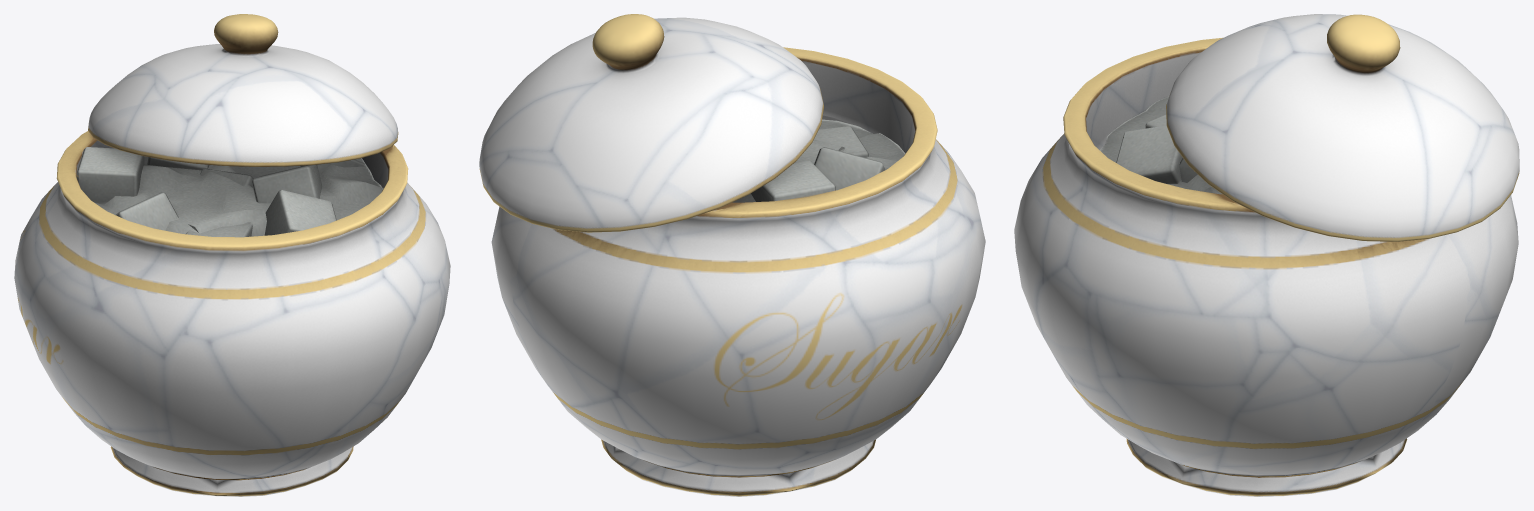
File: SugarBowl.fbx
3 renders of one model, left to right at view 1: azimuth 30°, elevation 25°; view 2: azimuth 150°, elevation 25°; view 3: azimuth 270°, elevation 25°, orthographic. The views are drawn at different scales.
Parts seen in each view (by area): view 1: Sugarbowl; view 2: Sugarbowl; view 3: Sugarbowl.
Boxes of the visible parts, x1,y1,x2,y2 form: Sugarbowl: (14, 14, 450, 496); Sugarbowl: (479, 14, 985, 496); Sugarbowl: (1014, 14, 1519, 496).
Size of the model in its own units: 11.29 by 11.13 by 11.32.
